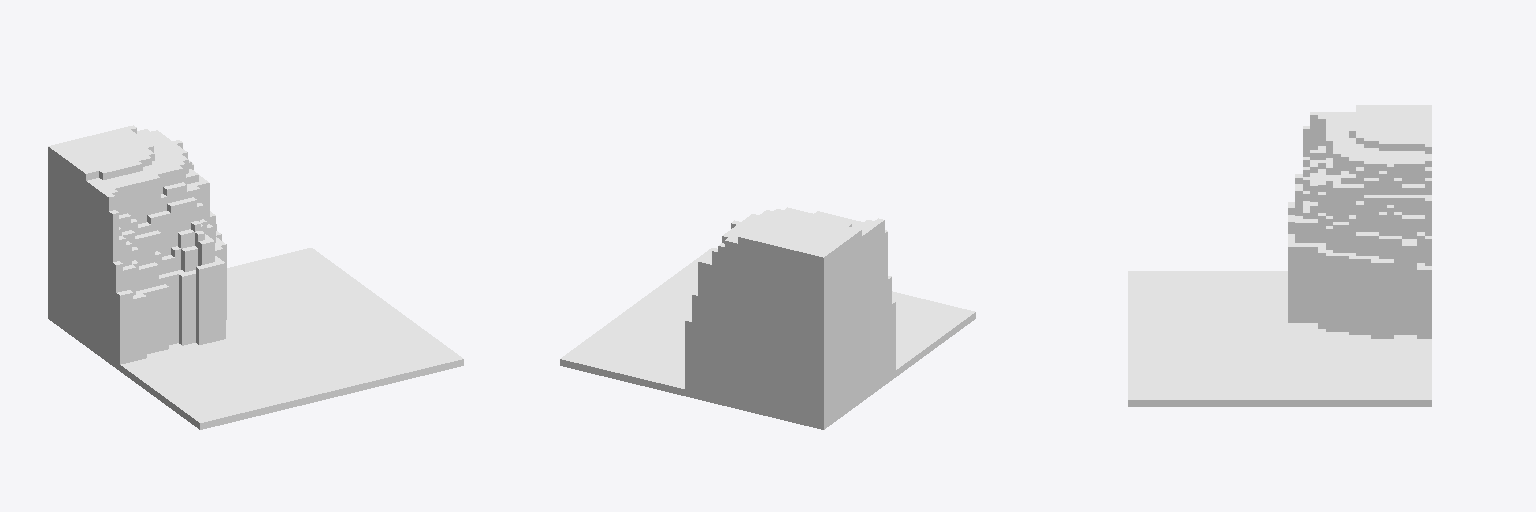
Rendered from tile-quartermountain-1.obj.
The picture shows the model from 3 angles: view 1: azimuth 30°, elevation 25°; view 2: azimuth 150°, elevation 25°; view 3: azimuth 270°, elevation 25°; orthographic projection.
Visible parts, largest first — view 1: tile-quartermountain-1; view 2: tile-quartermountain-1; view 3: tile-quartermountain-1.
Boxes of the visible parts, box(x1,y1,x2,y2) form: tile-quartermountain-1: box(48, 125, 463, 429); tile-quartermountain-1: box(560, 207, 975, 429); tile-quartermountain-1: box(1128, 105, 1431, 406).
Size of the model in its own units: 40 by 25 by 40.